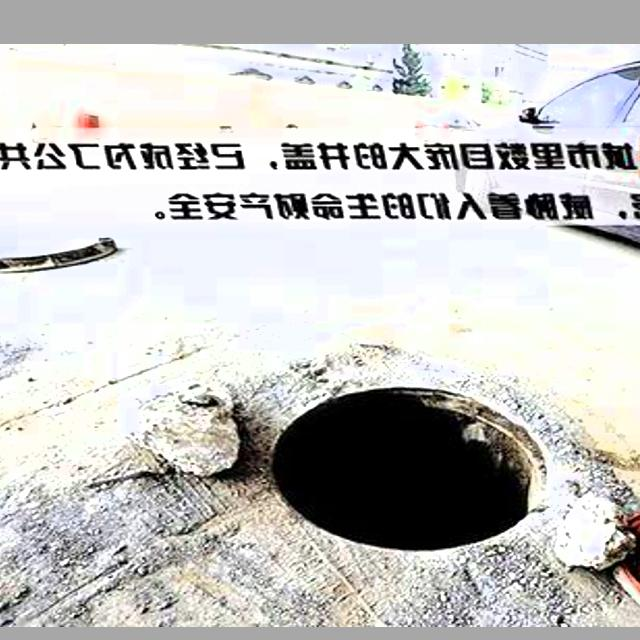lose: (255, 372, 560, 564)
